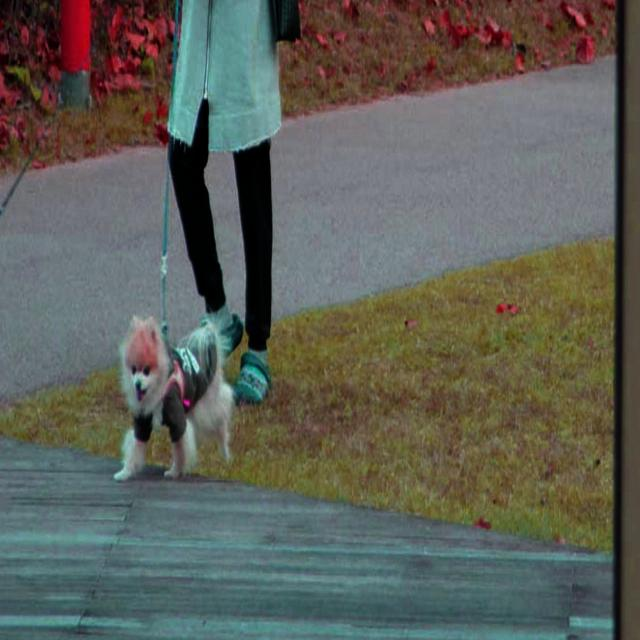Leashed_Dog: (113, 0, 235, 481)
